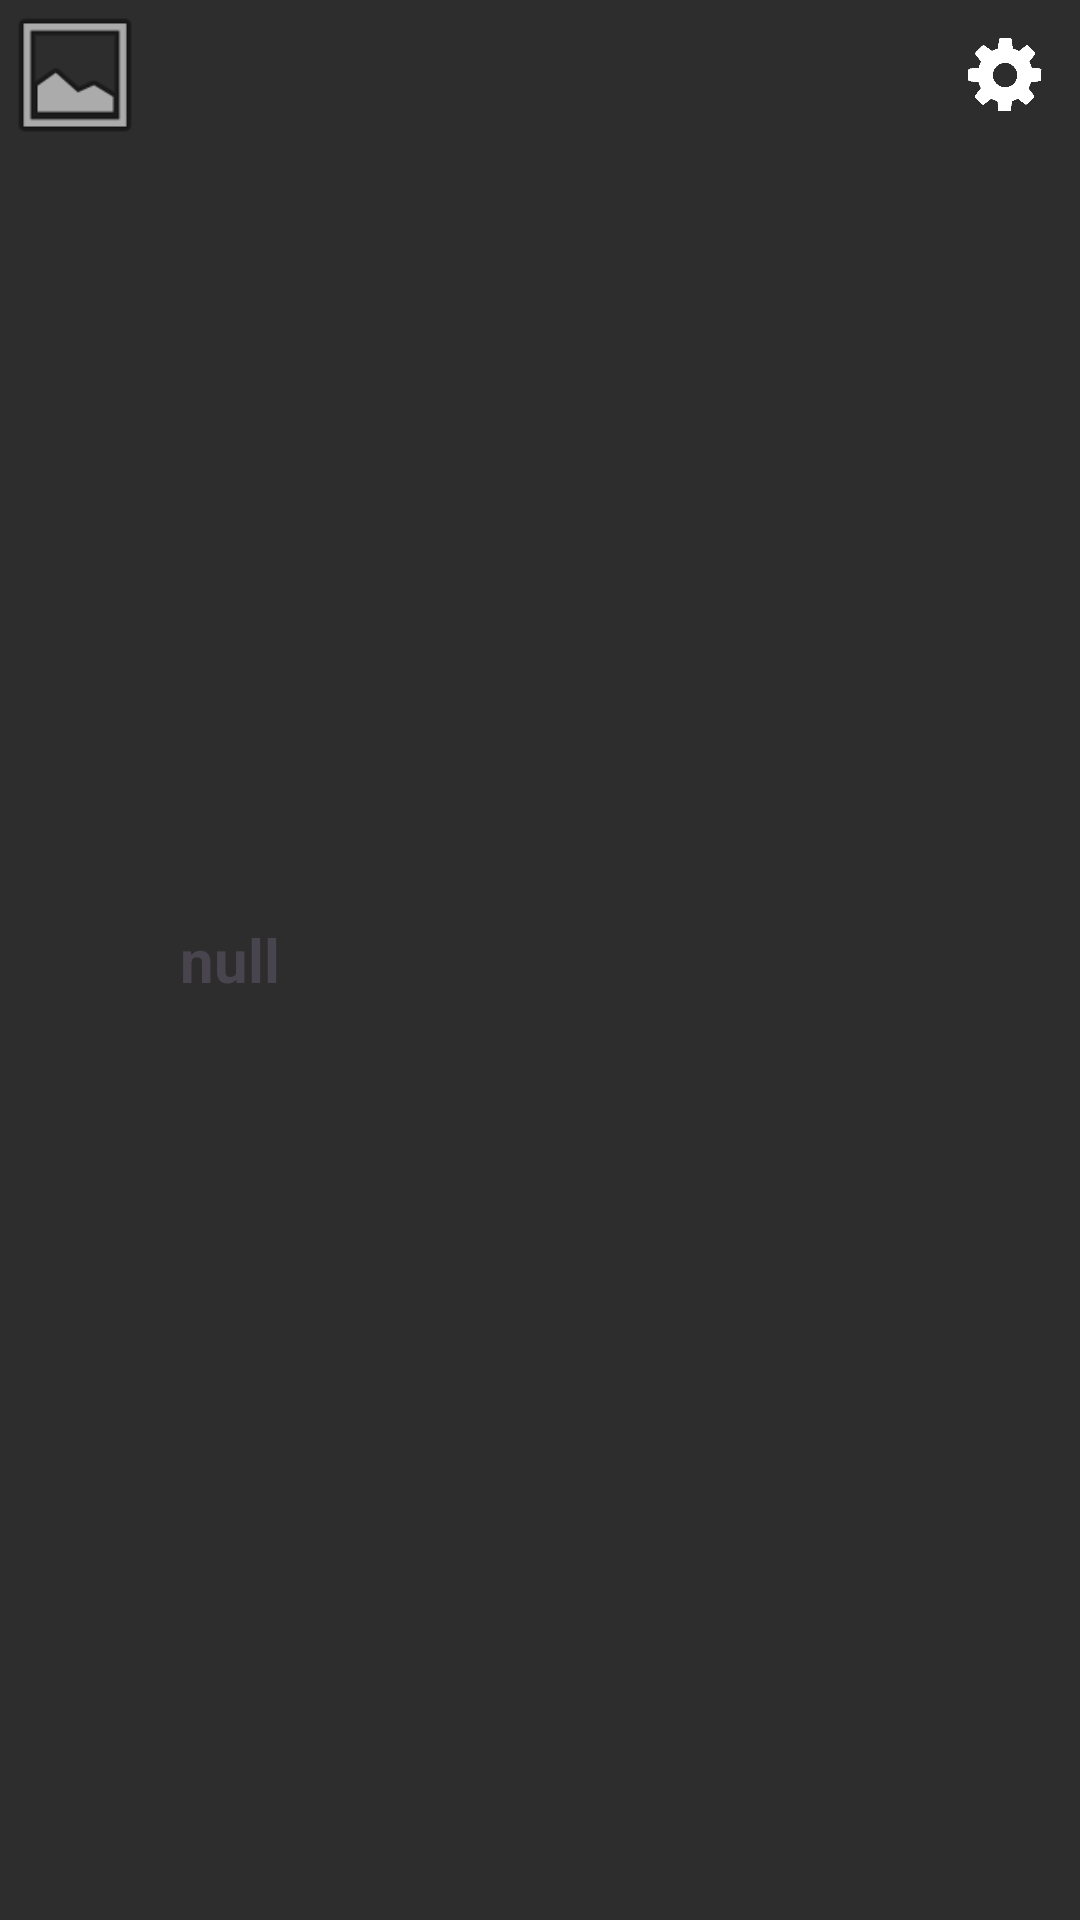

Icon bounding boxes for this 1080px×1920px phone screenshot, format (x1, y1, x2, y2):
Edit the custom skin: (968, 38, 1042, 111)
